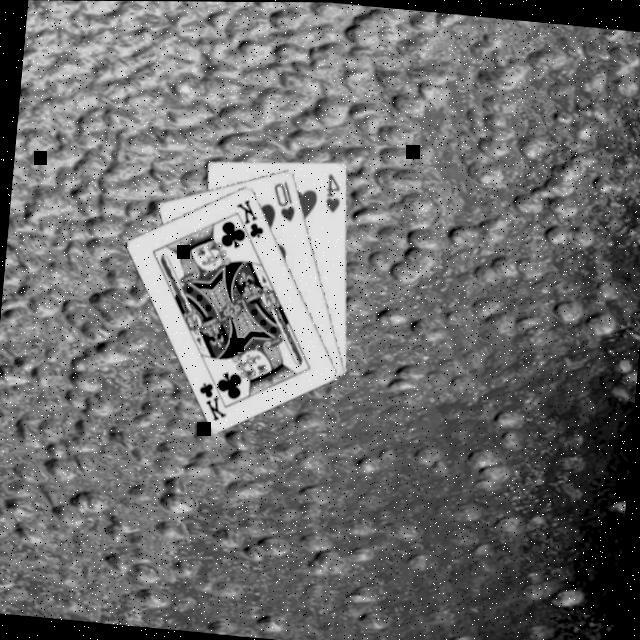10H: (266, 175, 298, 222)
4H: (318, 168, 344, 214)
KC: (190, 368, 230, 422), (227, 194, 267, 246)
